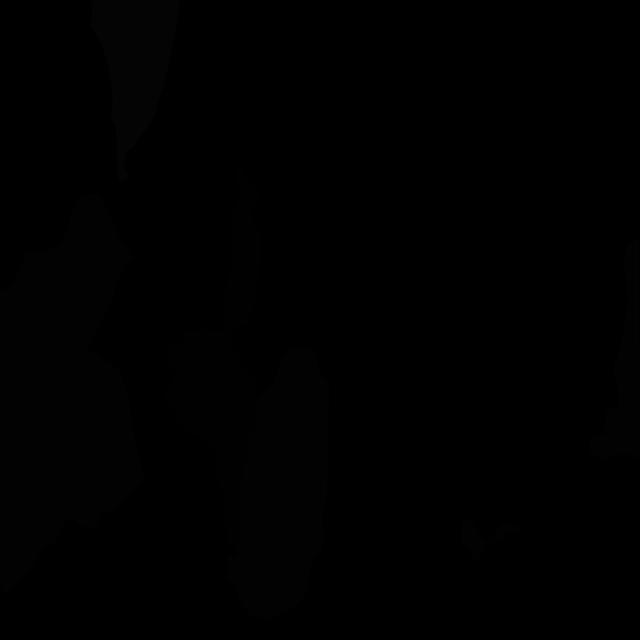cardboard: (0, 193, 135, 592), (12, 352, 144, 581), (226, 346, 330, 620), (588, 239, 640, 460), (460, 516, 526, 563), (0, 282, 13, 318)
rigid_plastic: (164, 160, 262, 551)
soft_plastic: (90, 0, 180, 181)
